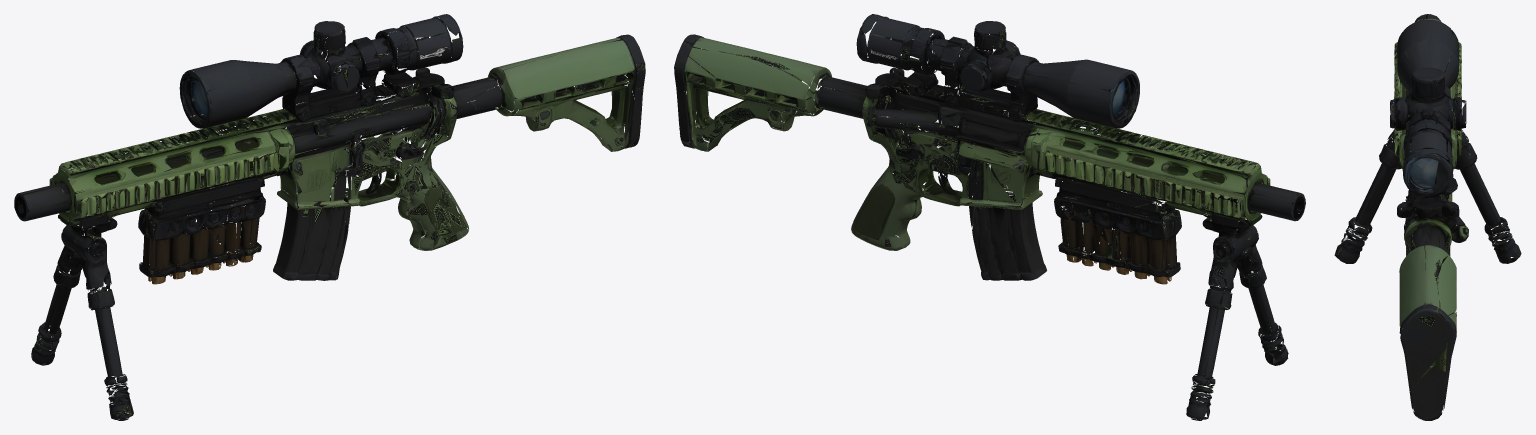
3 views of the same model, side by side, from view 1: azimuth 30°, elevation 25°; view 2: azimuth 150°, elevation 25°; view 3: azimuth 270°, elevation 25° (orthographic). The views are drawn at different scales.
Visible parts, largest first — view 1: node_0; view 2: node_0; view 3: node_0.
Boxes of the visible parts, x1,y1,x2,y2 form: node_0: [14, 14, 645, 420]; node_0: [674, 14, 1305, 420]; node_0: [1334, 14, 1521, 420].
Size of the model in its own units: 1.17 by 0.5578 by 0.3028.
1 material, 1 textured.
